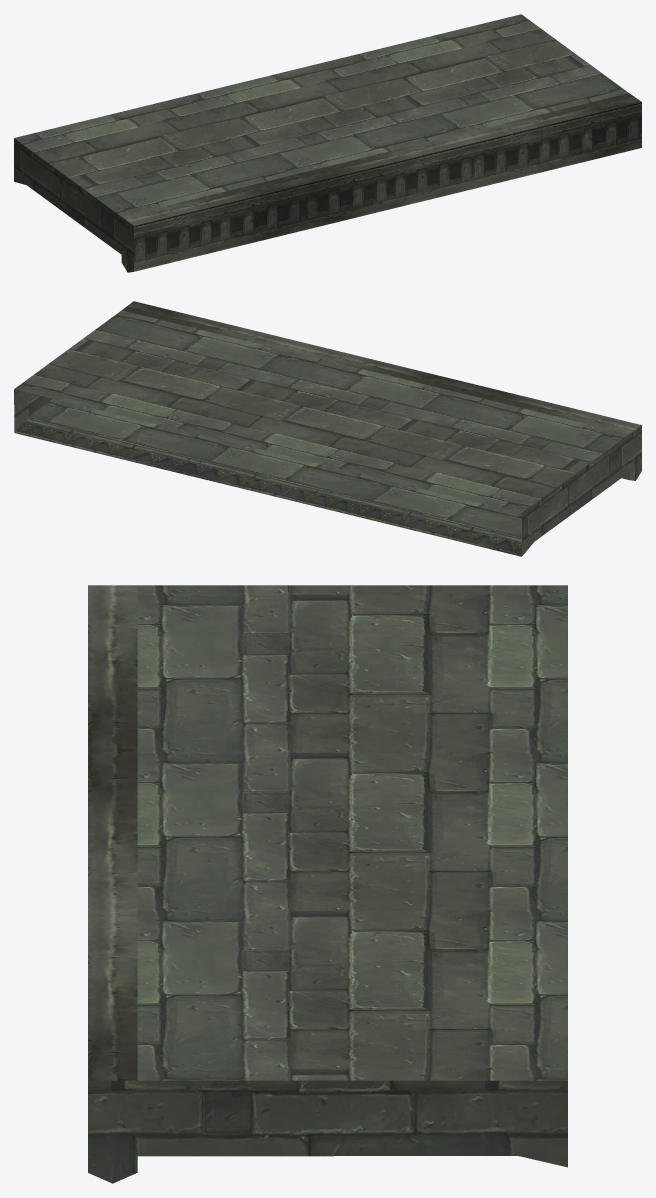
Rendered from tanxian_dongxue_371_qiang01b.obj.
The picture shows the model from 3 angles, top to bottom: view 1: azimuth 30°, elevation 25°; view 2: azimuth 150°, elevation 25°; view 3: azimuth 270°, elevation 25°; orthographic projection. The views are drawn at different scales.
Parts seen in each view (by area): view 1: tanxian_dongxue_371_qiang01b; view 2: tanxian_dongxue_371_qiang01b; view 3: tanxian_dongxue_371_qiang01b.
Part boxes in pixels (<box>): tanxian_dongxue_371_qiang01b: <box>14,14,641,272</box>; tanxian_dongxue_371_qiang01b: <box>14,301,641,556</box>; tanxian_dongxue_371_qiang01b: <box>88,585,567,1183</box>.
Size of the model in its own units: 512 by 49.46 by 210.
2 materials, 2 textured.
